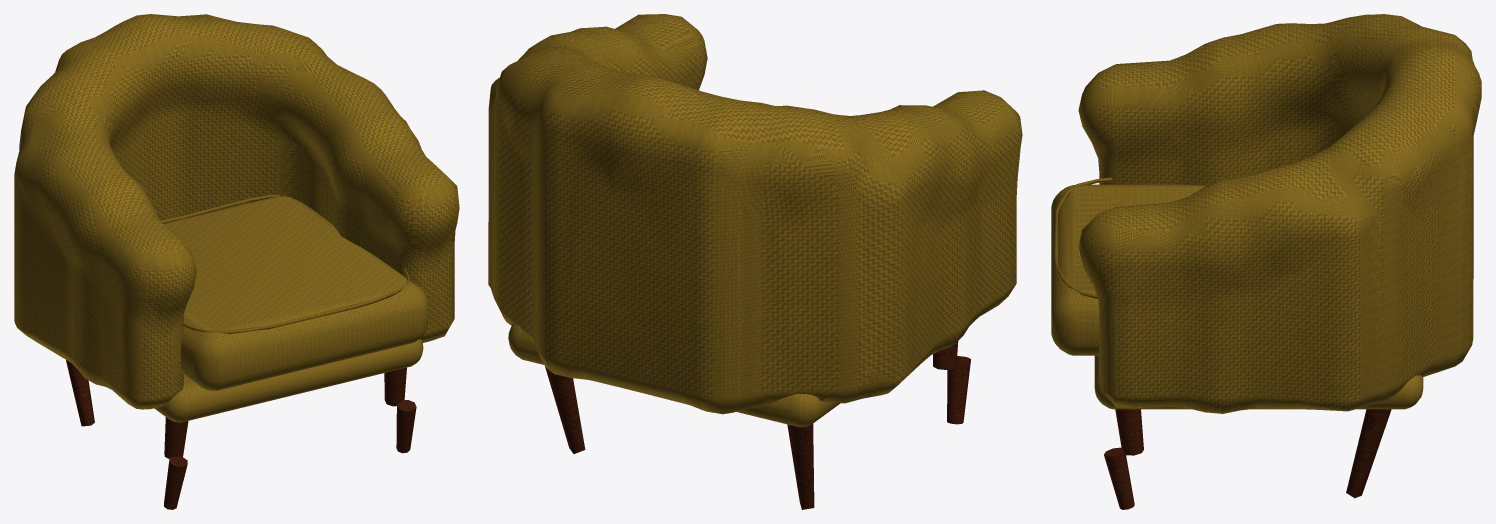
Rendered from living_armchair.glb.
The picture shows the model from 3 angles, left to right: view 1: azimuth 30°, elevation 25°; view 2: azimuth 150°, elevation 25°; view 3: azimuth 270°, elevation 25°; orthographic projection. The views are drawn at different scales.
Visible parts, largest first — view 1: Kavisli_Sirt_ve_Kollar, Oturma_Minderi, Alt_Govde_Plaka, Minder_Cevre_Dikisi, Ayak_Arka_Sol, Ayak_On_Sag_Alt, Ayak_On_Sol_Alt, Ayak_On_Sol_Ust, Ayak_On_Sag_Ust; view 2: Kavisli_Sirt_ve_Kollar, Alt_Govde_Plaka, Ayak_Arka_Sol, Ayak_Arka_Sag, Ayak_On_Sol_Alt; view 3: Kavisli_Sirt_ve_Kollar, Oturma_Minderi, Ayak_Arka_Sag, Alt_Govde_Plaka, Ayak_On_Sag_Alt, Ayak_On_Sag_Ust, Minder_Cevre_Dikisi.
Boxes of the visible parts, bbox=[...] form: Kavisli_Sirt_ve_Kollar: bbox=[14, 14, 459, 409]; Oturma_Minderi: bbox=[164, 196, 428, 390]; Alt_Govde_Plaka: bbox=[154, 339, 423, 422]; Minder_Cevre_Dikisi: bbox=[161, 194, 410, 333]; Ayak_Arka_Sol: bbox=[66, 360, 94, 426]; Ayak_On_Sag_Alt: bbox=[396, 400, 416, 453]; Ayak_On_Sol_Alt: bbox=[164, 456, 187, 509]; Ayak_On_Sol_Ust: bbox=[164, 417, 188, 458]; Ayak_On_Sag_Ust: bbox=[384, 367, 406, 406]; Kavisli_Sirt_ve_Kollar: bbox=[488, 14, 1022, 414]; Alt_Govde_Plaka: bbox=[508, 323, 839, 427]; Ayak_Arka_Sol: bbox=[787, 423, 814, 509]; Ayak_Arka_Sag: bbox=[544, 365, 585, 453]; Ayak_On_Sol_Alt: bbox=[947, 356, 970, 424]; Kavisli_Sirt_ve_Kollar: bbox=[1078, 14, 1481, 413]; Oturma_Minderi: bbox=[1051, 184, 1206, 355]; Ayak_Arka_Sag: bbox=[1346, 409, 1391, 498]; Alt_Govde_Plaka: bbox=[1094, 355, 1423, 409]; Ayak_On_Sag_Alt: bbox=[1104, 447, 1134, 509]; Ayak_On_Sag_Ust: bbox=[1115, 409, 1143, 455]; Minder_Cevre_Dikisi: bbox=[1053, 177, 1112, 298].
Bounding box in the file's own units: 0.8 × 0.7957 × 0.7853.
Materials: 3 (3 with a texture image).
